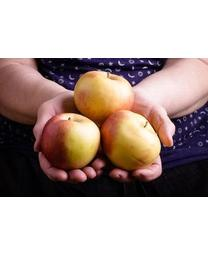apple: (100, 110, 161, 170), (37, 112, 99, 169), (75, 72, 134, 122)
